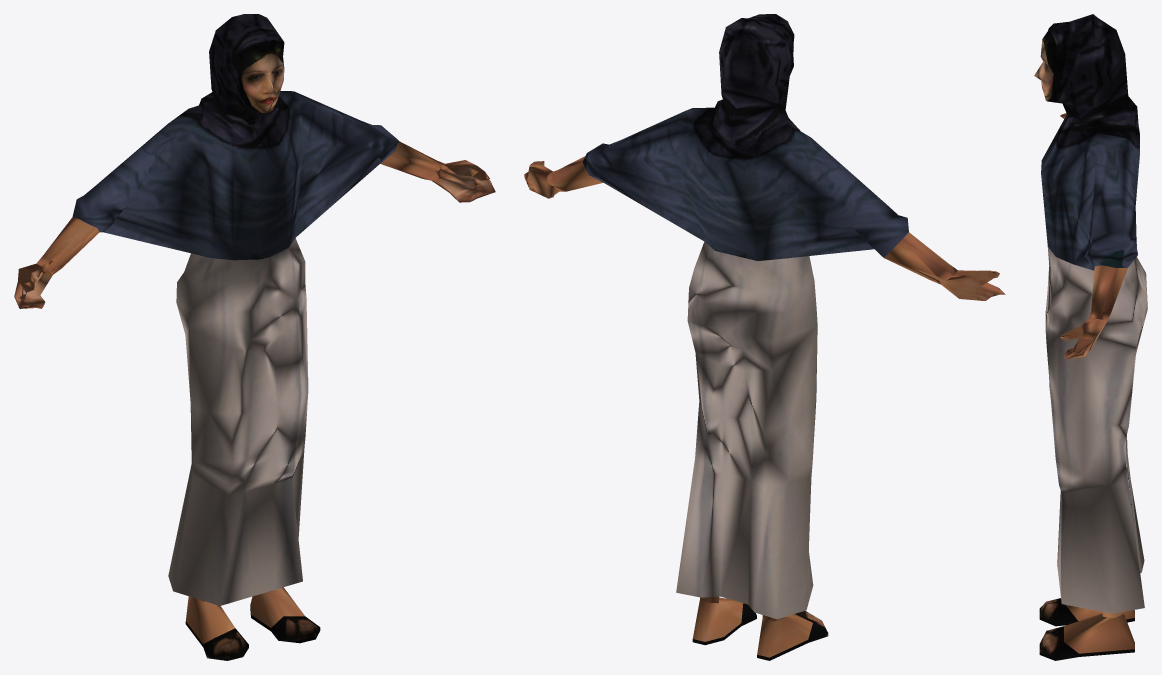
The model's file is ICIVW.glb.
3 views of the same model, side by side, from view 1: azimuth 30°, elevation 25°; view 2: azimuth 150°, elevation 25°; view 3: azimuth 270°, elevation 25° (orthographic).
Parts seen in each view (by area): view 1: _ICIVW; view 2: _ICIVW; view 3: _ICIVW.
Boxes of the visible parts, x1,y1,x2,y2 form: _ICIVW: (14,14,495,660); _ICIVW: (524,14,1005,660); _ICIVW: (1034,14,1147,660).
Bounding box in the file's own units: 1.6 × 1.99 × 0.3327.
Materials: 2 (2 with a texture image).
